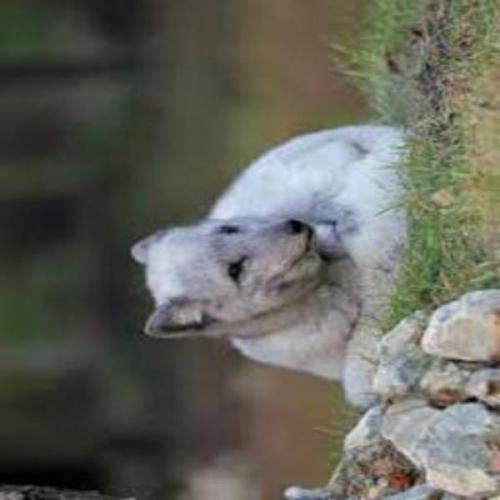arctic_fox-endangered: (144, 128, 404, 403)
